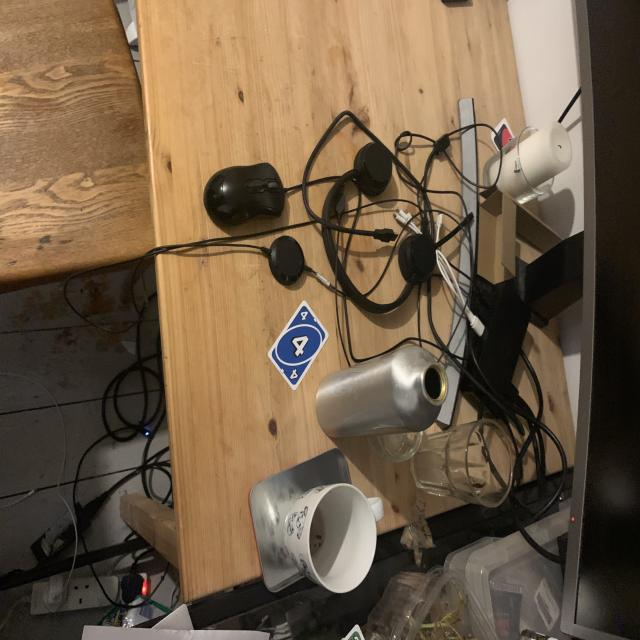lblue-4: (298, 310, 310, 322)
